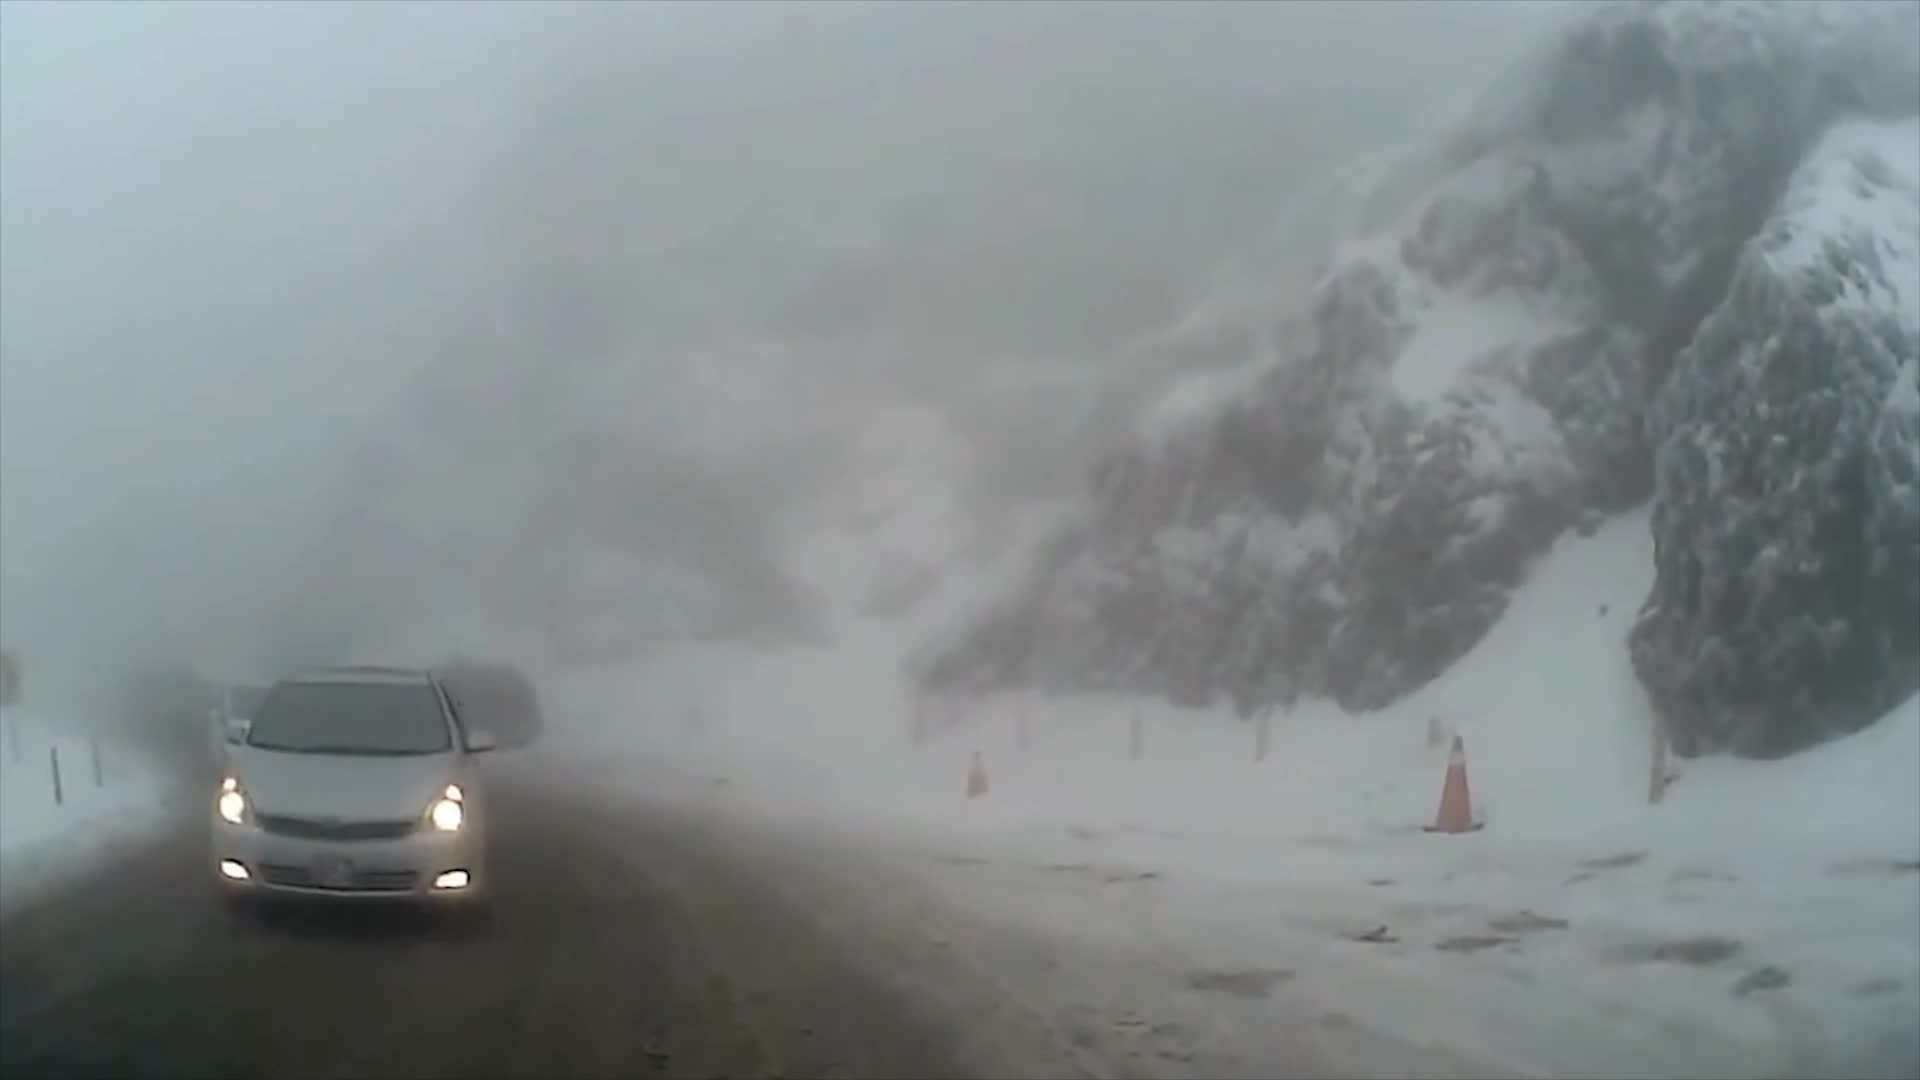vehicle: (204, 665, 497, 930), (190, 676, 342, 794)
